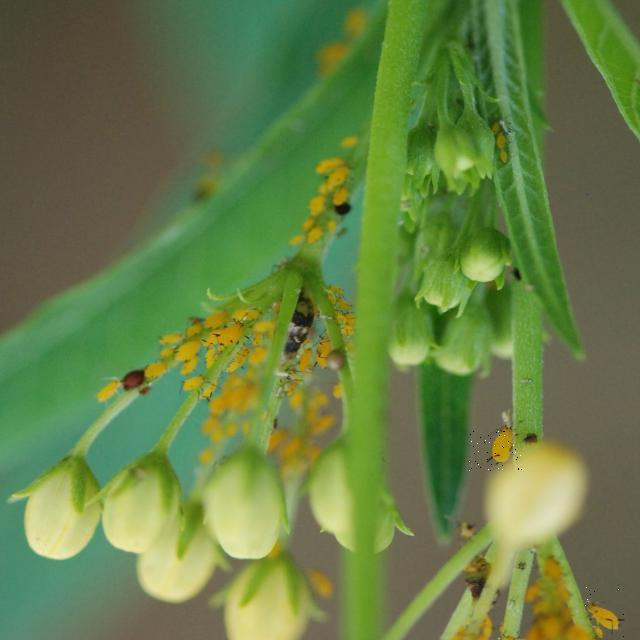aphid: (583, 582, 633, 640), (469, 430, 522, 470), (173, 339, 201, 363), (144, 360, 168, 381), (203, 310, 228, 330), (247, 344, 269, 366), (316, 338, 332, 364), (298, 348, 313, 373), (308, 195, 326, 215), (252, 319, 276, 334), (332, 186, 349, 206), (306, 227, 322, 245)
